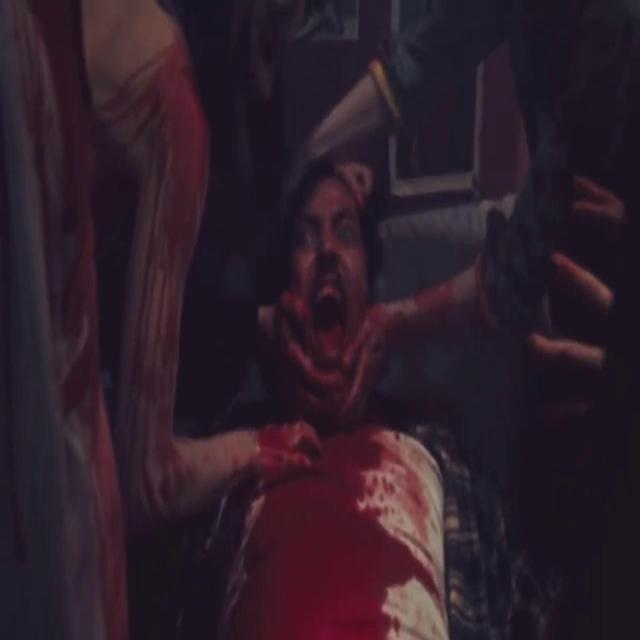flood: (209, 152, 427, 640), (15, 62, 128, 638), (122, 79, 208, 516)
